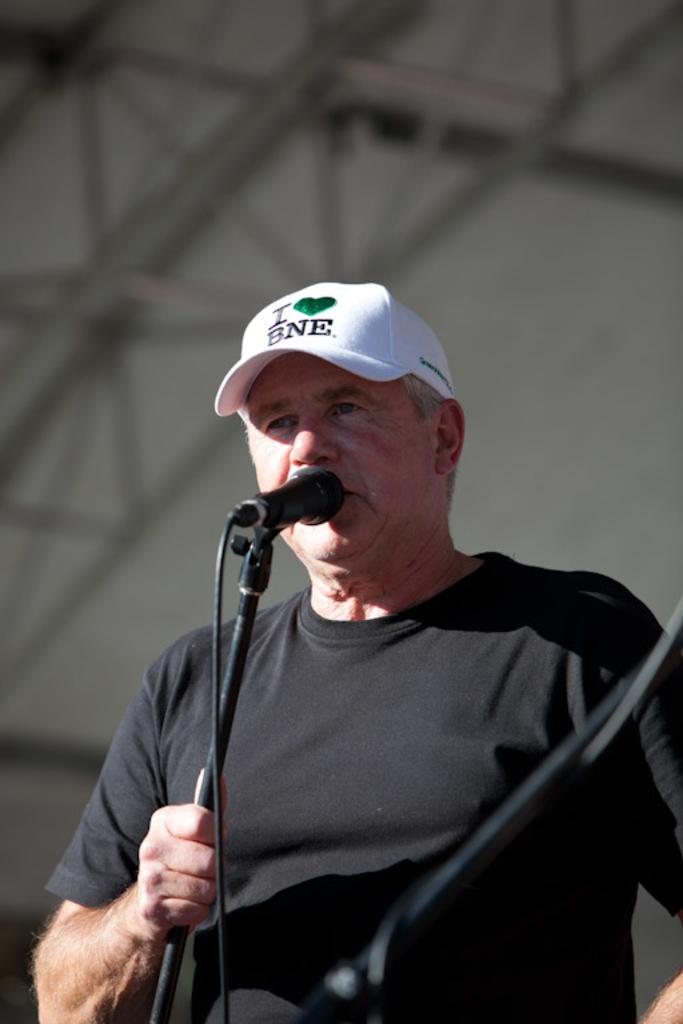Hat: (213, 276, 462, 436)
